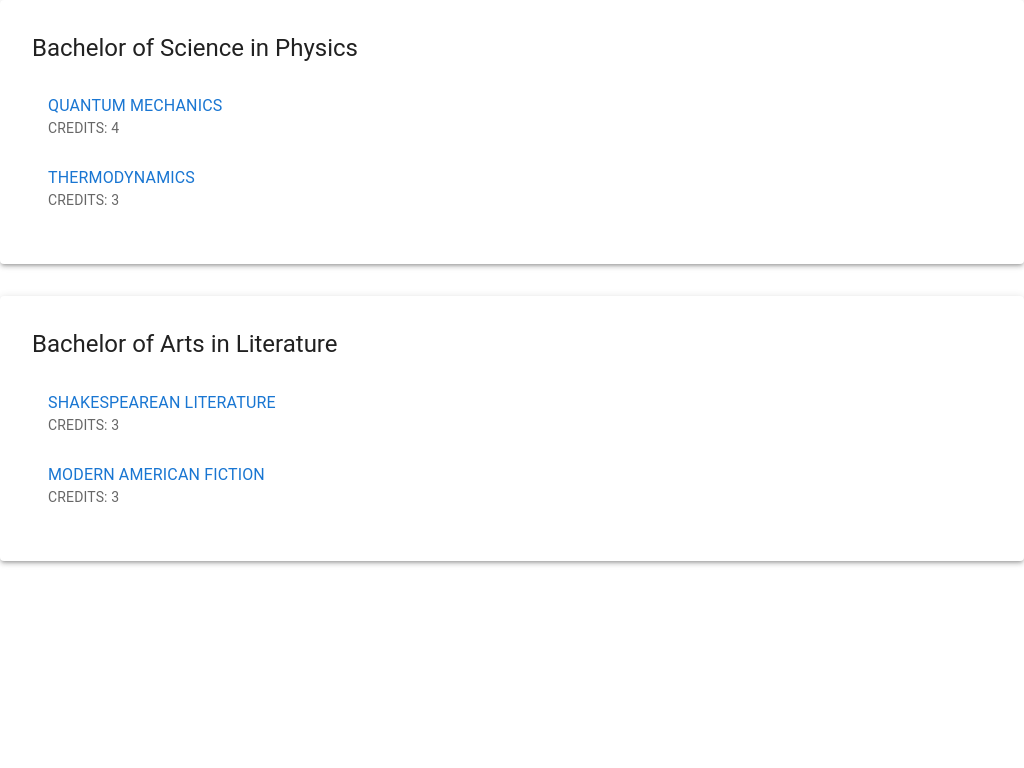
Test case: Programs Component › opens the modal when a course is clicked and displays course details
Click on the first course - Quantum Mechanics
Step 1. Click the button with test id "program-program-1-course-title-course-1" → (135, 106), box [32,80,992,152]
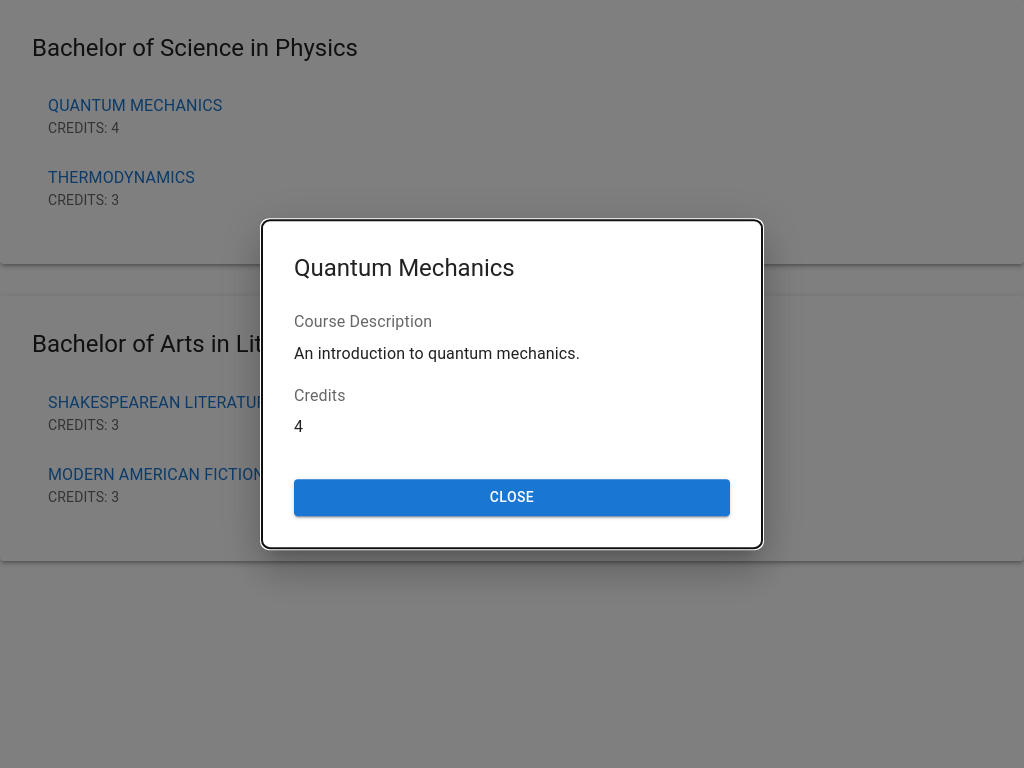
Result: the text "An introduction to quantum mechanics." is shown at [294,344,580,363]
Result: the heading "Credits" is shown at [294,386,346,405]
Result: the text "4" is shown at [294,417,303,436]
